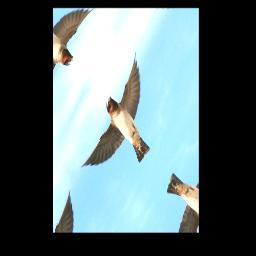Swallow: (76, 46, 178, 210)
